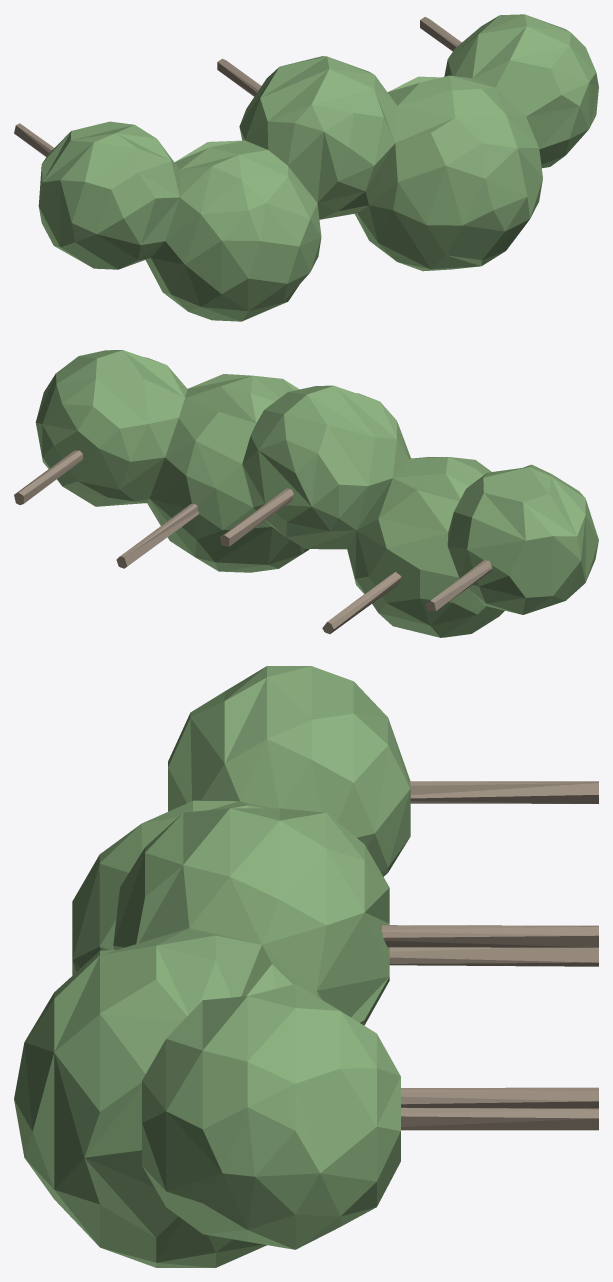
File: r-104-seekonk-park-woods.lod1.glb
3 renders of one model, top to bottom at view 1: azimuth 30°, elevation 25°; view 2: azimuth 150°, elevation 25°; view 3: azimuth 270°, elevation 25°, orthographic. The views are drawn at different scales.
Visible parts, largest first — view 1: foliage, trunks; view 2: foliage, trunks; view 3: foliage, trunks.
Boxes of the visible parts, x1,y1,x2,y2 form: foliage: (38, 14, 598, 321); trunks: (14, 17, 461, 156); foliage: (35, 350, 598, 637); trunks: (14, 450, 492, 634); foliage: (14, 666, 410, 1267); trunks: (381, 781, 598, 1130).
Size of the model in its own units: 37197 by 14341 by 20400.
